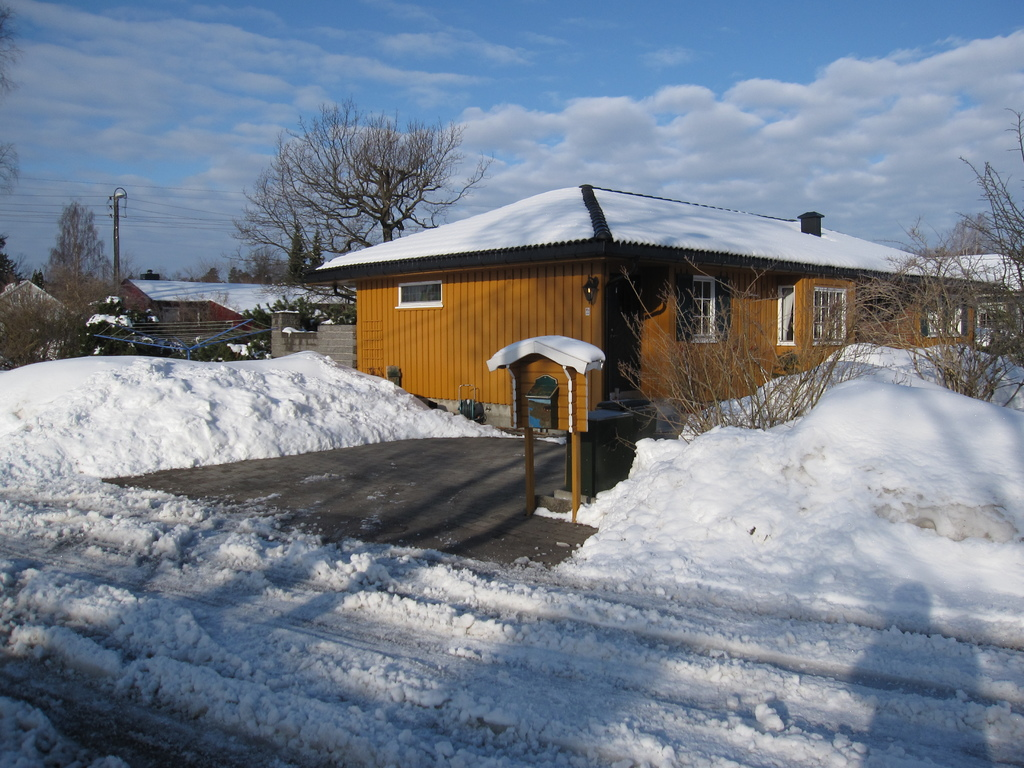Tree: (0, 0, 495, 331)
